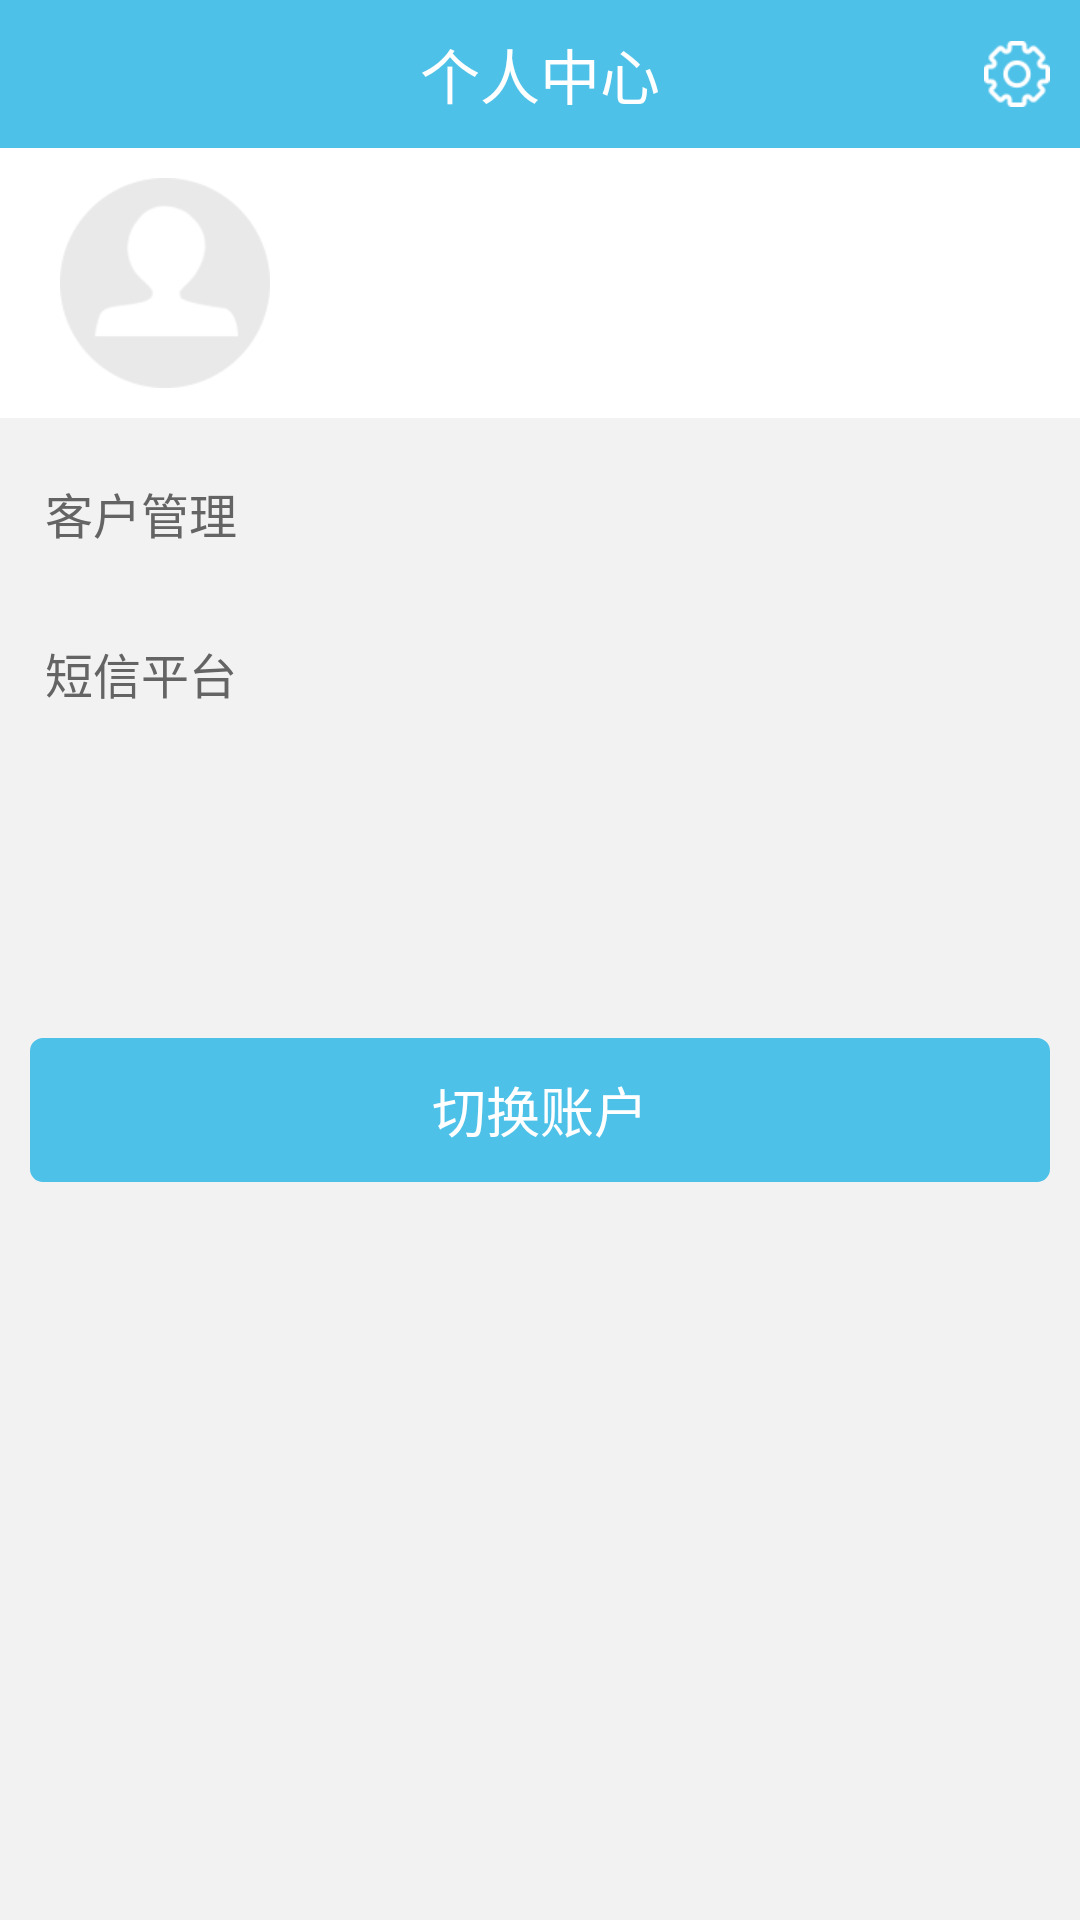

Icons on this 1080 x 1920 Android screen, each with the point to tap as (x=x, y=y):
setting: (x=1017, y=74)
